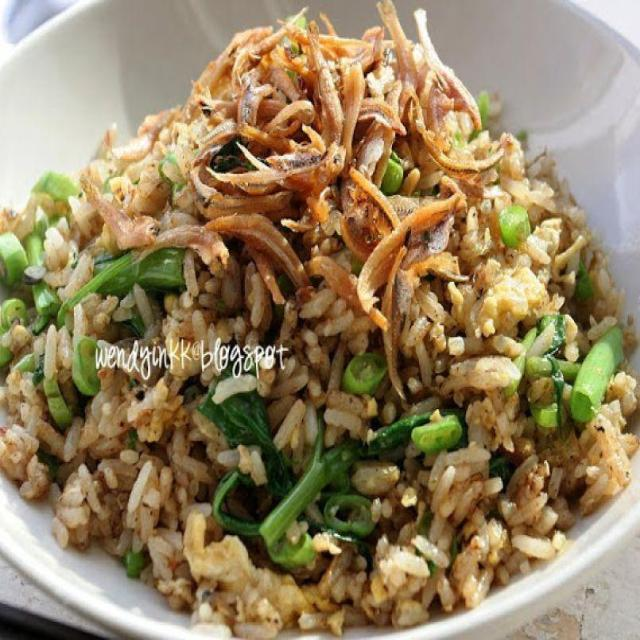Nasi Goreng: (2, 2, 636, 635)
